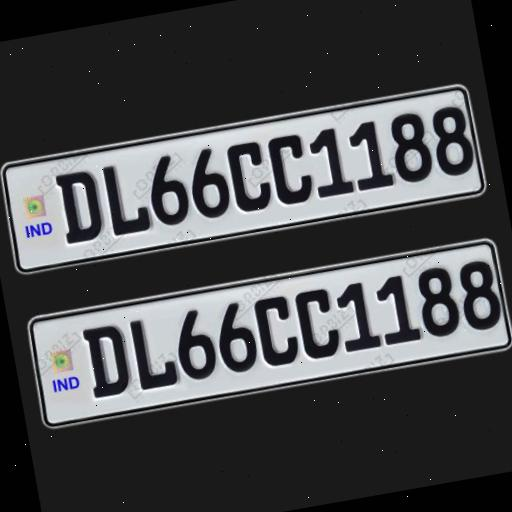number plate: (20, 233, 512, 434), (0, 82, 497, 279)
